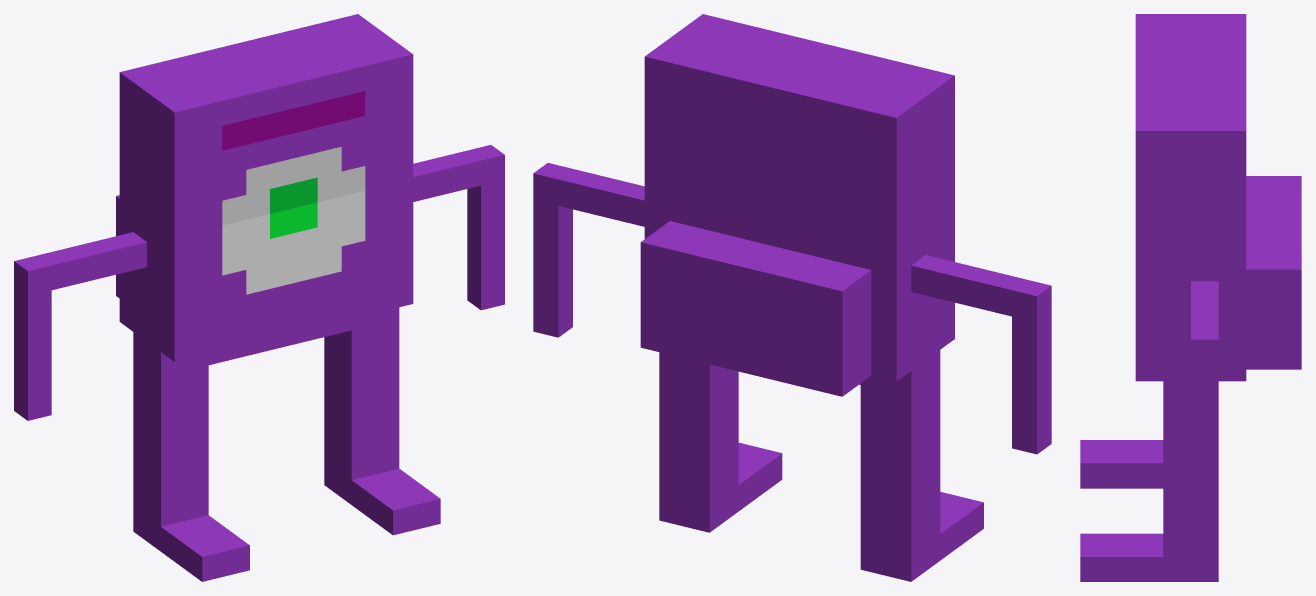
File: Pmontser.obj
The picture shows the model from 3 angles, left to right: view 1: azimuth 30°, elevation 25°; view 2: azimuth 150°, elevation 25°; view 3: azimuth 270°, elevation 25°; orthographic projection. The views are drawn at different scales.
Bounding box in the file's own units: 2 × 1.8 × 0.8.
Materials: 1 (1 with a texture image).
